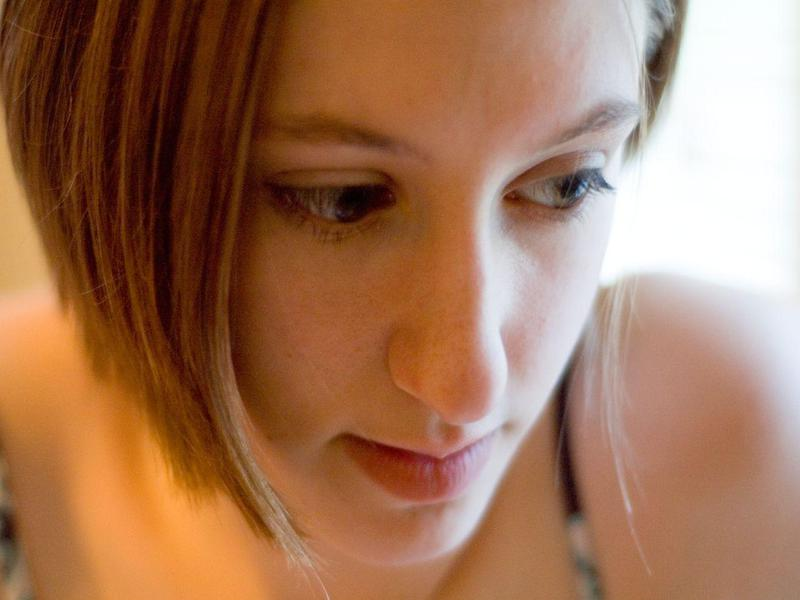person: (1, 1, 798, 596)
